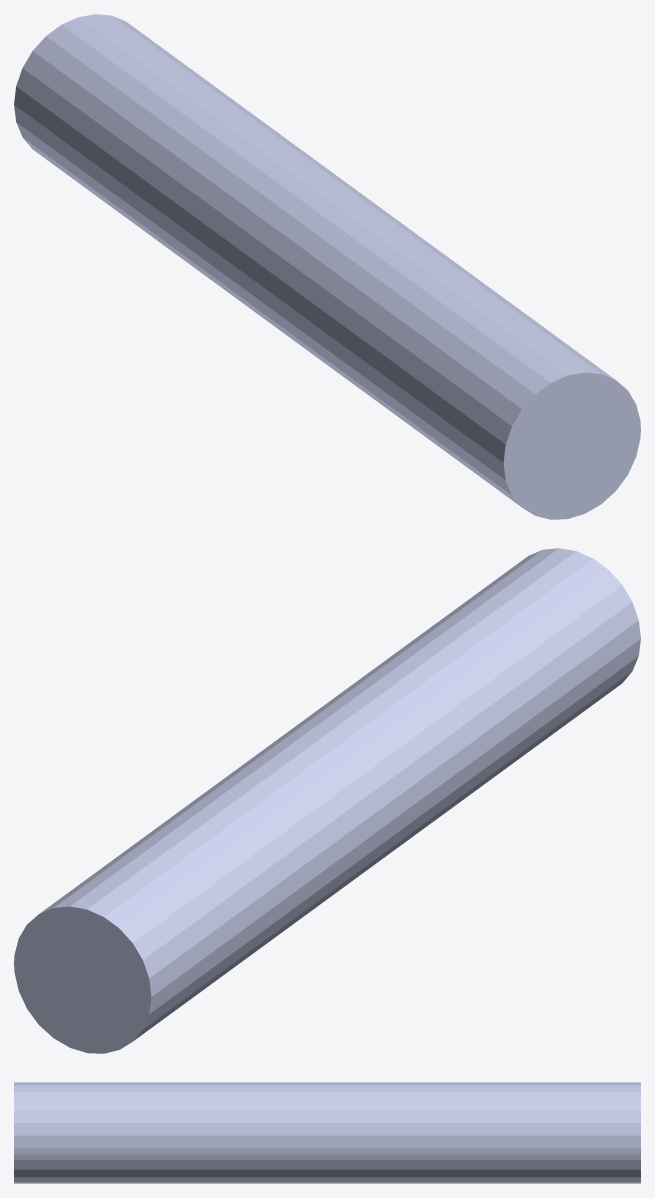
Rendered from tool_wrist_shaft_link.obj.
3 views of the same model, one above another, from view 1: azimuth 30°, elevation 25°; view 2: azimuth 150°, elevation 25°; view 3: azimuth 270°, elevation 25° (orthographic). The views are drawn at different scales.
Visible parts, largest first — view 1: ActorShape0_0-Mesh; view 2: ActorShape0_0-Mesh; view 3: ActorShape0_0-Mesh.
Part boxes in pixels (left/top/right/bottom): ActorShape0_0-Mesh: left=14, top=14, right=640, bottom=519; ActorShape0_0-Mesh: left=14, top=548, right=640, bottom=1053; ActorShape0_0-Mesh: left=14, top=1082, right=640, bottom=1183.
Bounding box in the file's own units: 0.0013 × 0.0013 × 0.00802.
